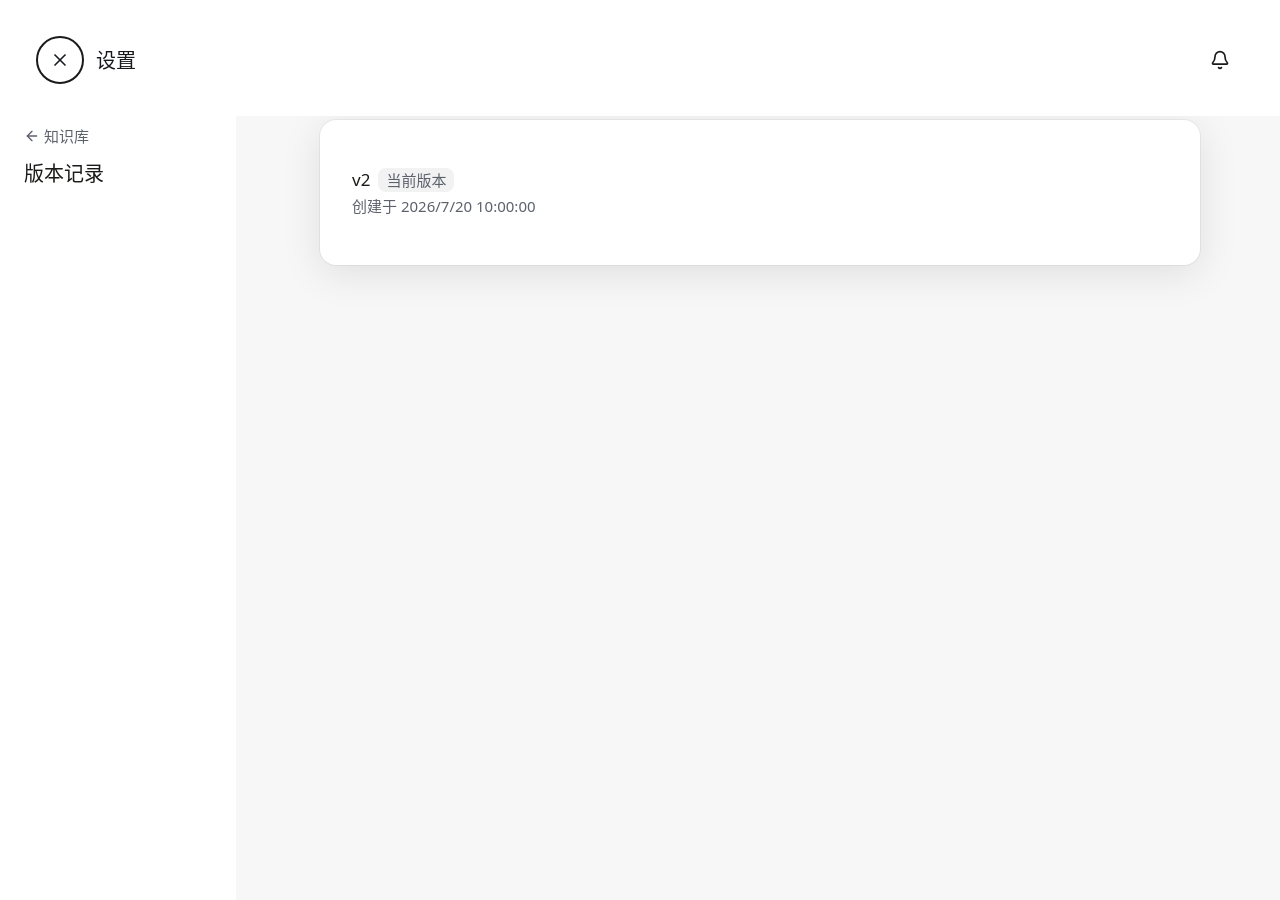
Test case: 下钻、返回与 Esc 逐层 › 版本记录（参数化下钻层）返回按钮直达知识库层：不落参数缺失的空版本记录层
This screenshot has width=1280, height=900.
Click the button "知识库": coordinates (56, 136) [24,120,89,152]
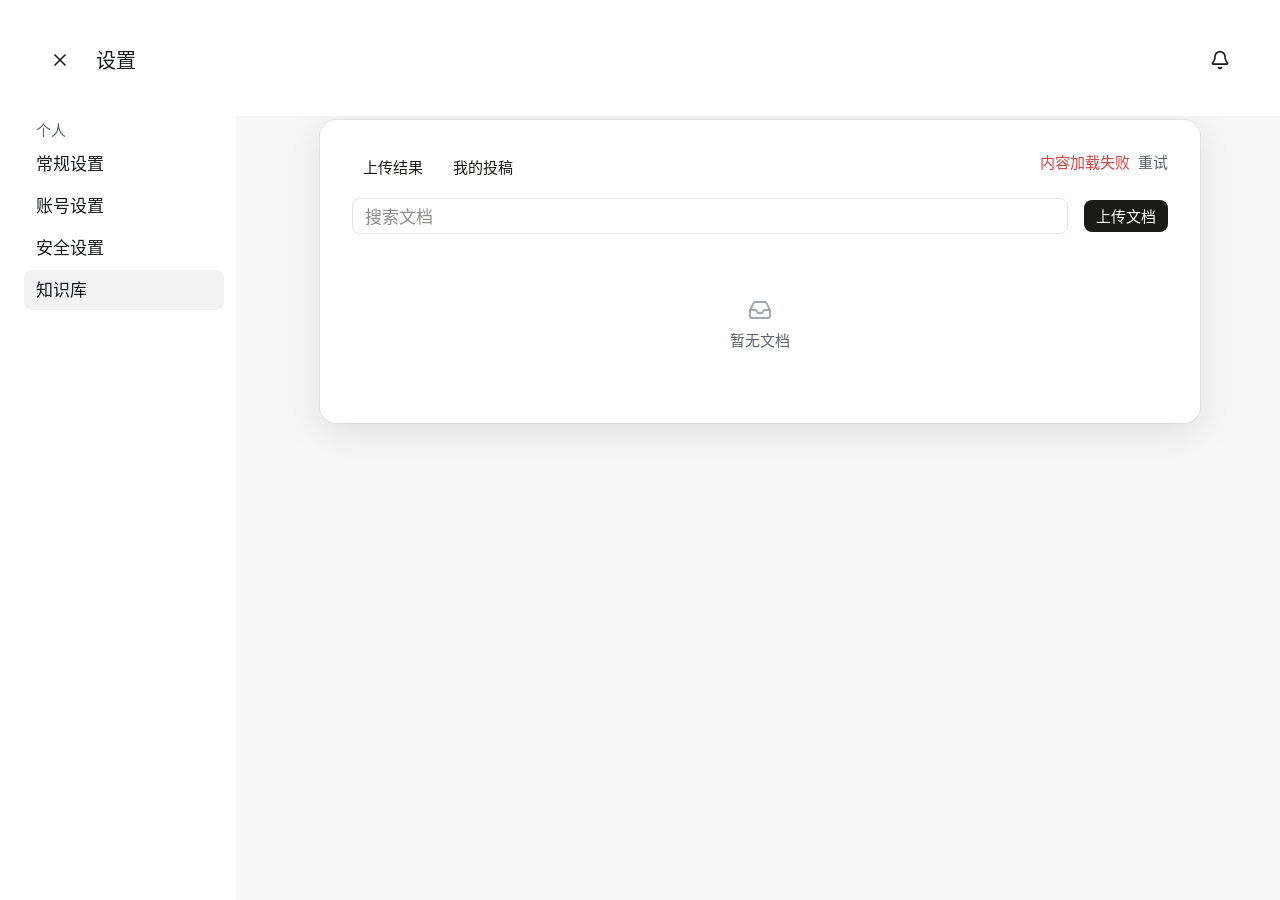
Expected: the button "上传结果" is shown, [352,152,434,182]
